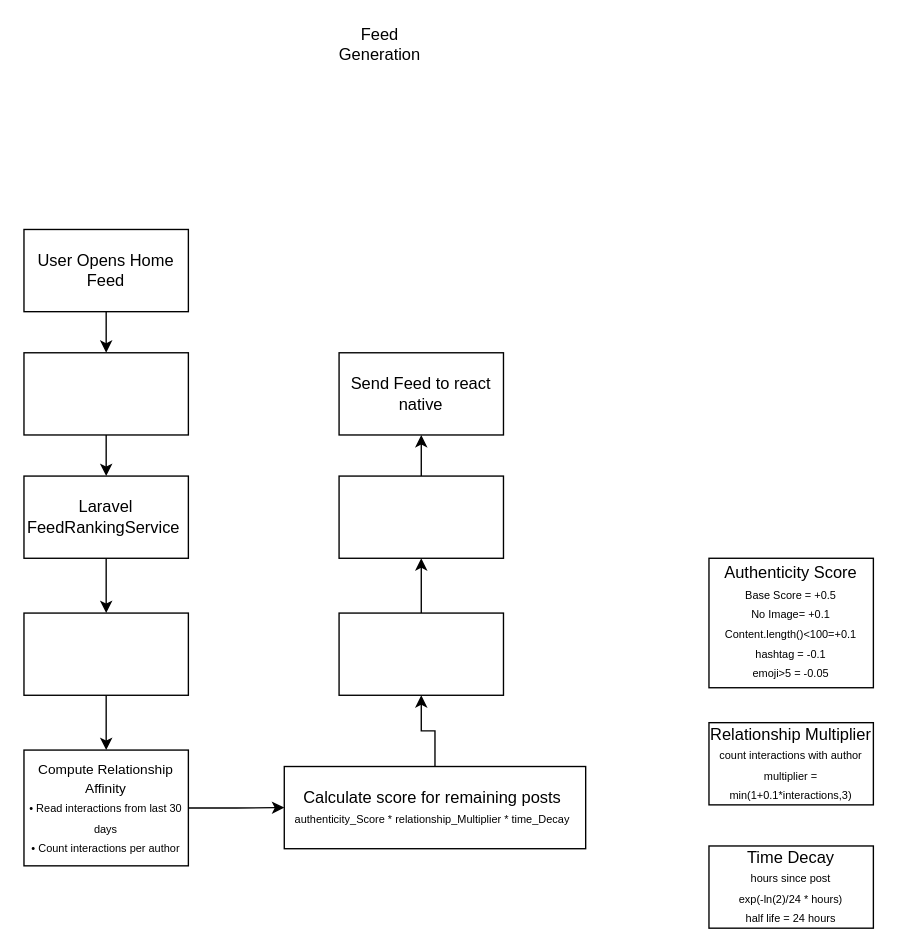
This 897x952 diagram has some shape labels left out. The box of each missing label's shape, as (x1, y1, x2, y2) in pixels:
Fetch Candidate Posts(Last 7 Days, Exclude Own Posts): (23, 612, 188, 695)
React Native: (23, 351, 188, 435)
Select top 20 posts: (338, 475, 503, 558)
Sort posts based on score: (338, 612, 503, 695)
